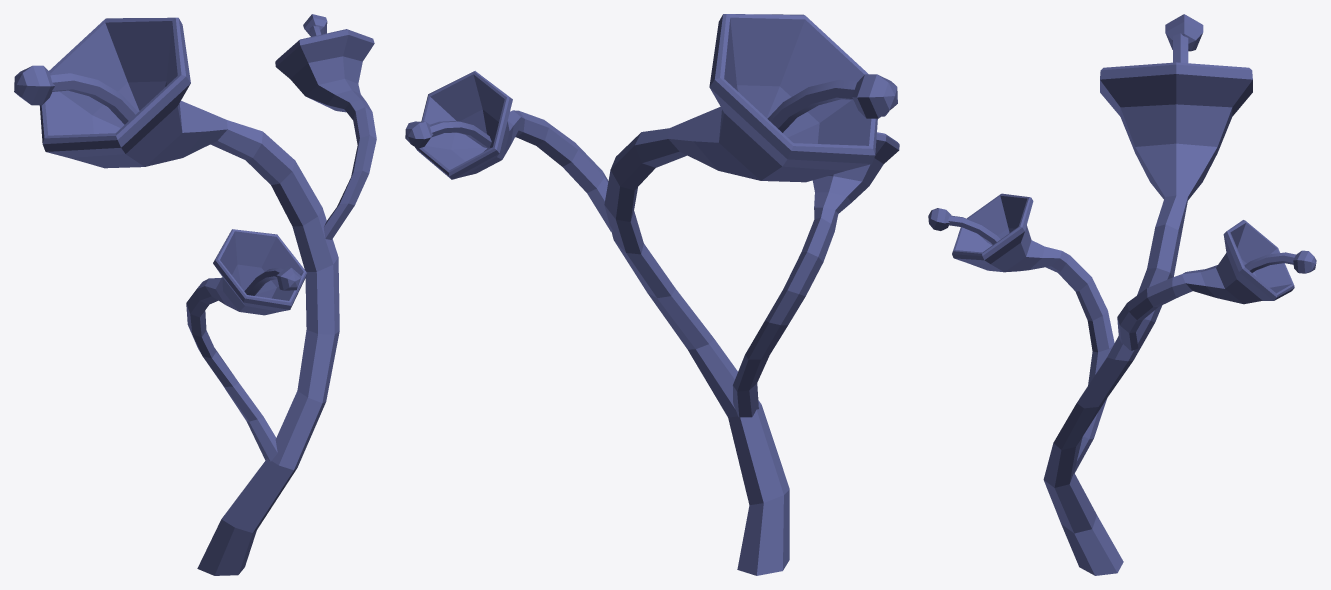
The model's file is Plant_2.fbx.
The picture shows the model from 3 angles, left to right: view 1: azimuth 30°, elevation 25°; view 2: azimuth 150°, elevation 25°; view 3: azimuth 270°, elevation 25°; orthographic projection. The views are drawn at different scales.
Visible parts, largest first — view 1: Plant_2; view 2: Plant_2; view 3: Plant_2.
Part boxes in pixels (x1,y1,x2,y2): Plant_2: [14, 14, 376, 575]; Plant_2: [405, 14, 899, 575]; Plant_2: [928, 14, 1316, 575].
Bounding box in the file's own units: 0.8765 × 1.14 × 0.7979.
